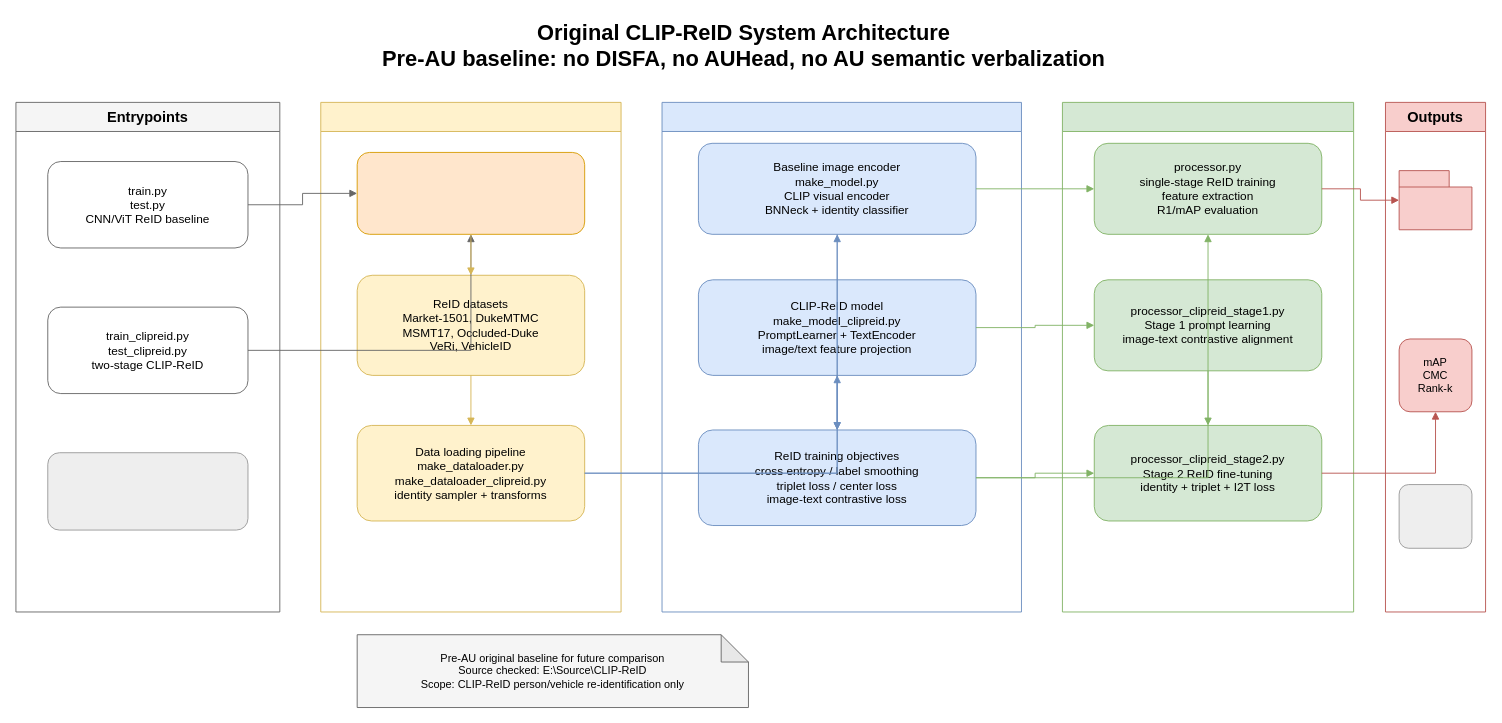
The diagram is 1502 pixels wide and 723 high, and some of its shapes have lost their labels. Here are the shapes that lost their labels. From the top down, the box of each, then its label:
(356, 152, 585, 234): config/ + configs/person/ YACS configuration person re-identification settings
(1398, 170, 1472, 230): model checkpoints
(320, 101, 621, 612): ReID Configuration + Data
(661, 101, 1021, 612): Visual-Language Model + Losses
(1062, 101, 1354, 612): Training + Inference
(47, 452, 248, 530): No AU-specific entrypoints no train_au.py no inference_au.py
(1398, 484, 1472, 548): No AU vector No emotion text
